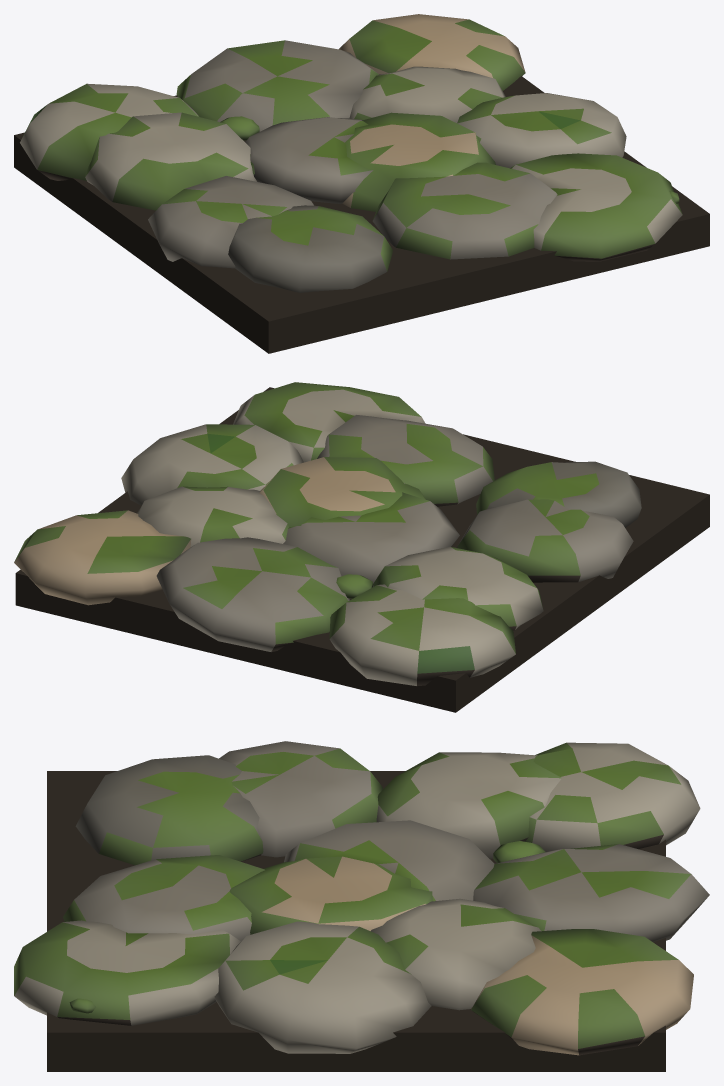
File: kit_corr3.glb
The picture shows the model from 3 angles, top to bottom: view 1: azimuth 30°, elevation 25°; view 2: azimuth 150°, elevation 25°; view 3: azimuth 270°, elevation 25°; orthographic projection. The views are drawn at different scales.
Visible parts, largest first — view 1: kit_corr3; view 2: kit_corr3; view 3: kit_corr3.
Boxes of the visible parts, x1,y1,x2,y2 form: kit_corr3: [14, 14, 709, 353]; kit_corr3: [14, 382, 709, 712]; kit_corr3: [14, 741, 709, 1071].
Bounding box in the file's own units: 1.1 × 0.1405 × 1.12.
